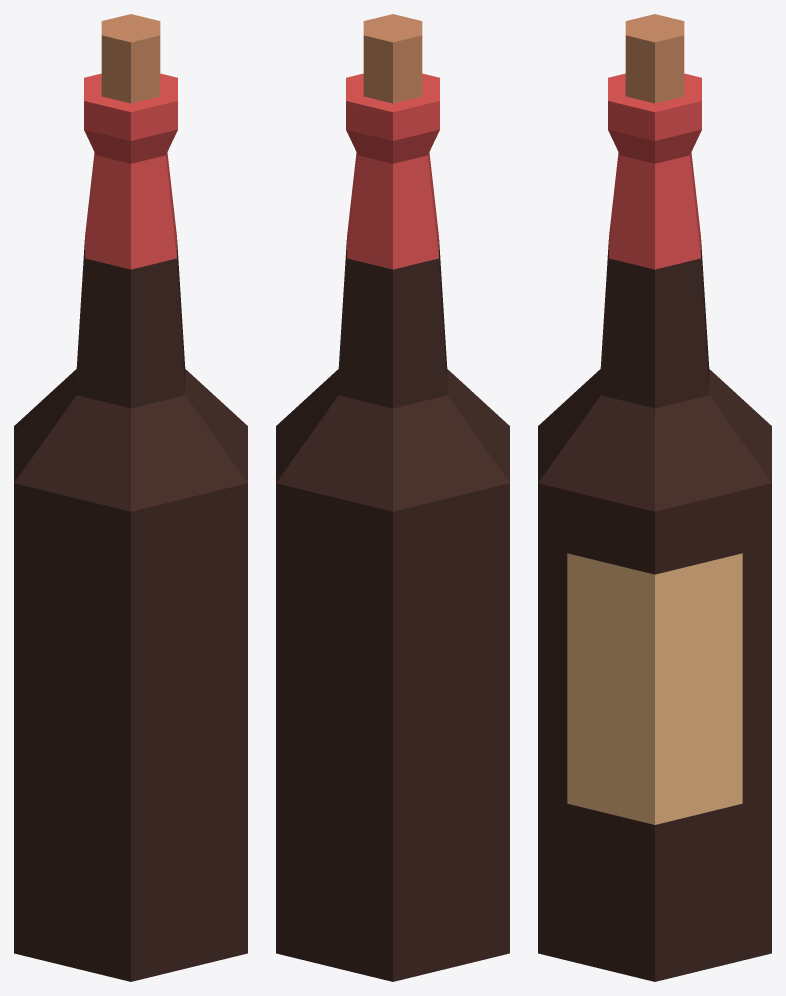
The model's file is wineRed.fbx.
3 views of the same model, side by side, from view 1: azimuth 30°, elevation 25°; view 2: azimuth 150°, elevation 25°; view 3: azimuth 270°, elevation 25° (orthographic).
Parts seen in each view (by area): view 1: wineRed; view 2: wineRed; view 3: wineRed.
Boxes of the visible parts, <box> form: wineRed: <box>14,14,247,981</box>; wineRed: <box>276,14,509,981</box>; wineRed: <box>538,14,771,981</box>.
Size of the model in its own units: 1.91 by 6.99 by 1.65.
